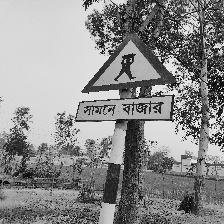Market-in-front: (76, 33, 177, 124)
